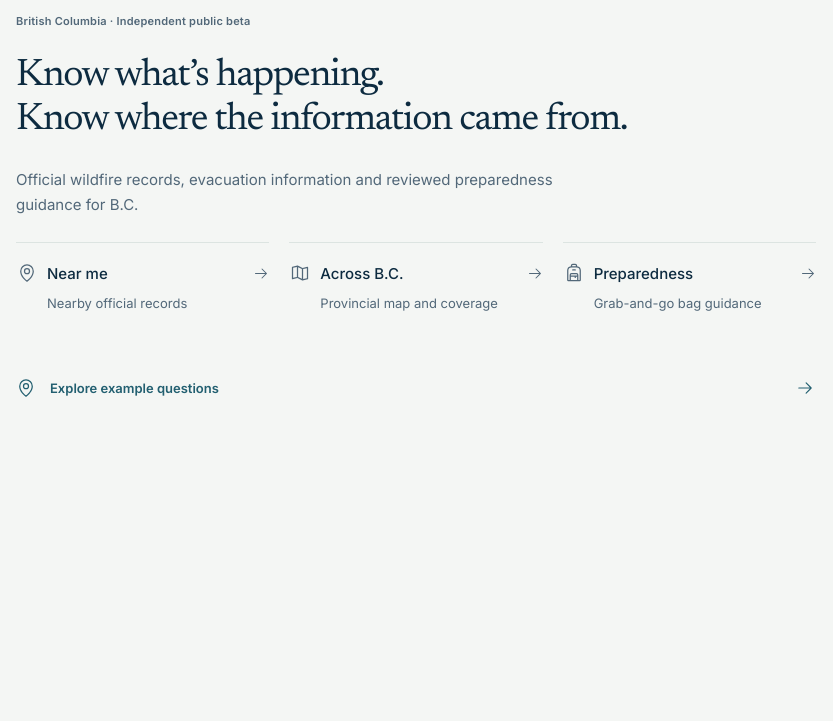
Test: AskStartPanel › keeps the free-text/place controls available when the catalogue fails
Click the button "Explore example questions" at (134, 388), box [16, 361, 816, 415]
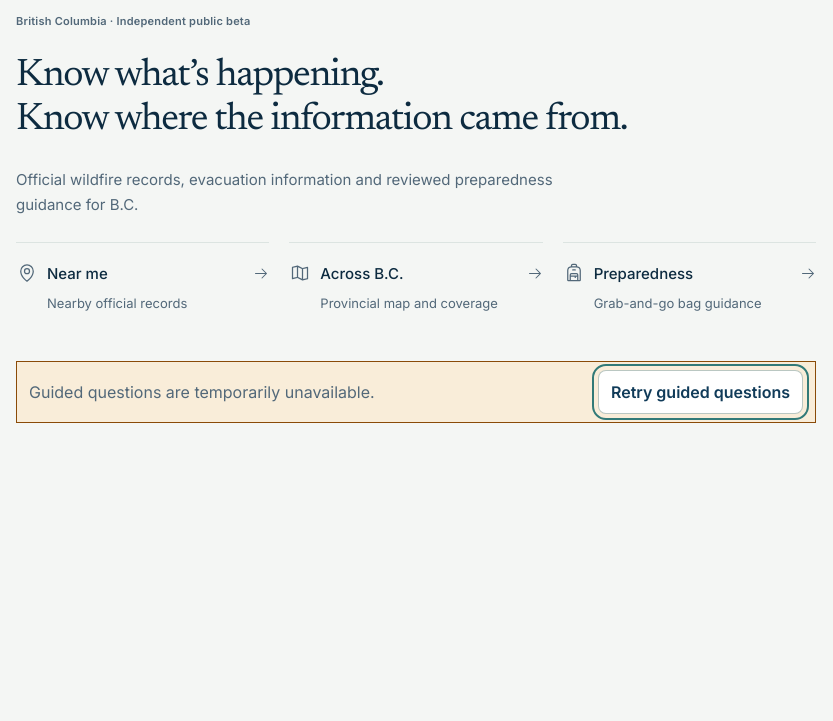
Now the message named "Guided questions status" shows "temporarily unavailable", box [29, 382, 375, 402]
Now the button "Retry guided questions" is shown, box [598, 370, 803, 414]
Click the button "Near me Nearby official records" at (143, 288), box [16, 242, 269, 333]
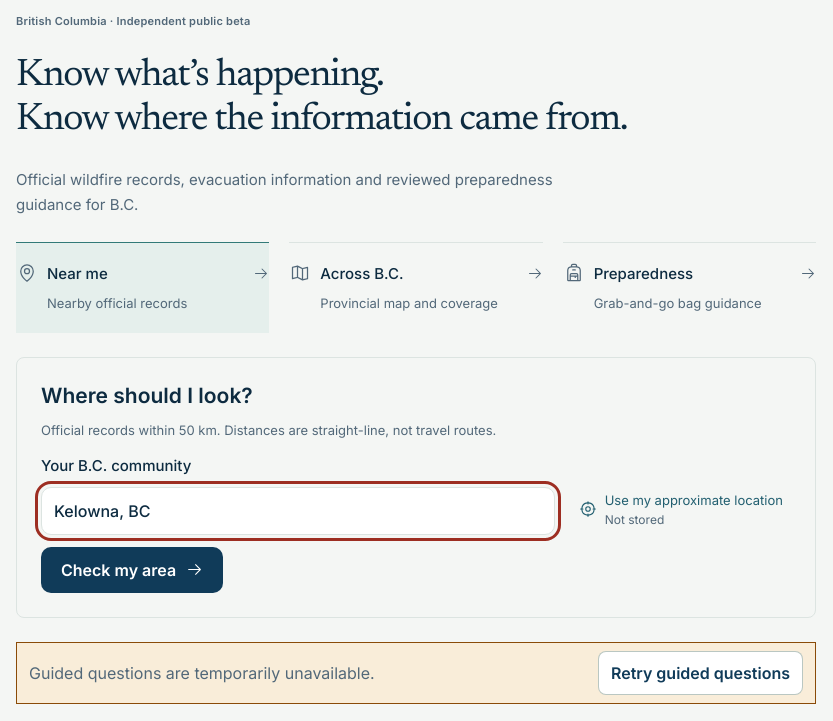
Now the field named "BC community for a nearby lookup" is shown, box [41, 487, 555, 535]
